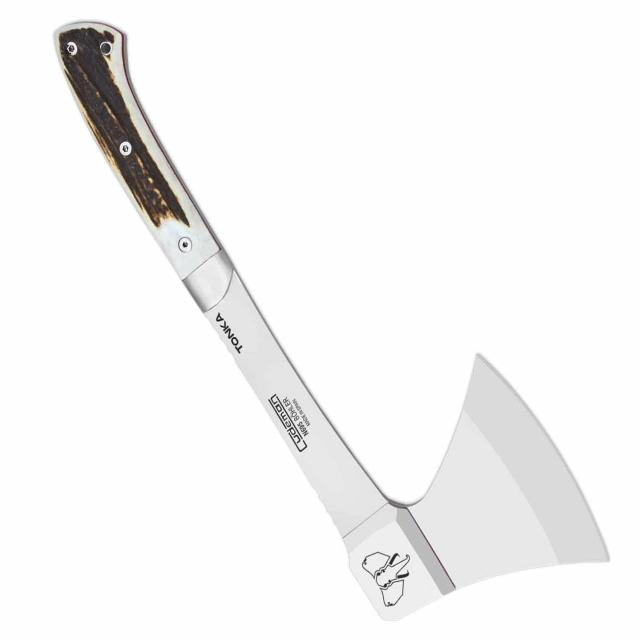Kapak: (56, 21, 602, 583)
